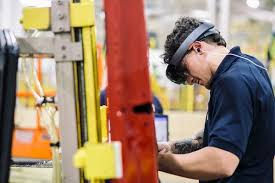hololens: (160, 22, 224, 86)
